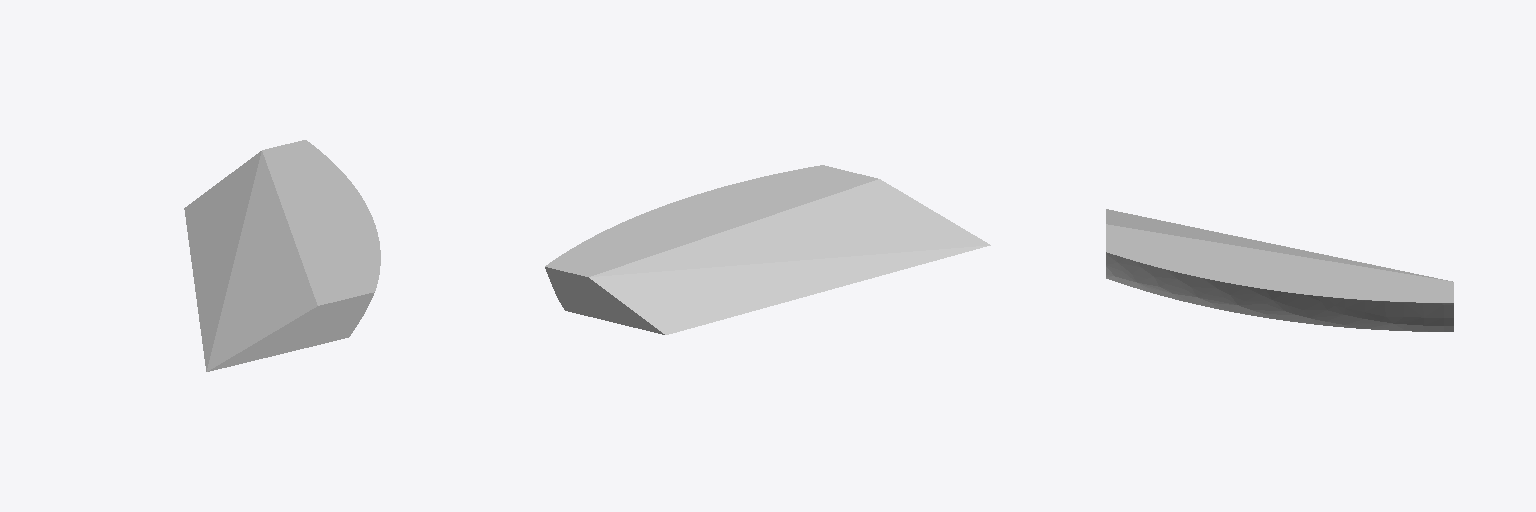
File: skillet_collision_20.obj
3 renders of one model, left to right at view 1: azimuth 30°, elevation 25°; view 2: azimuth 150°, elevation 25°; view 3: azimuth 270°, elevation 25°, orthographic.
Size of the model in its own units: 0.0515 by 0.0071 by 0.0567.